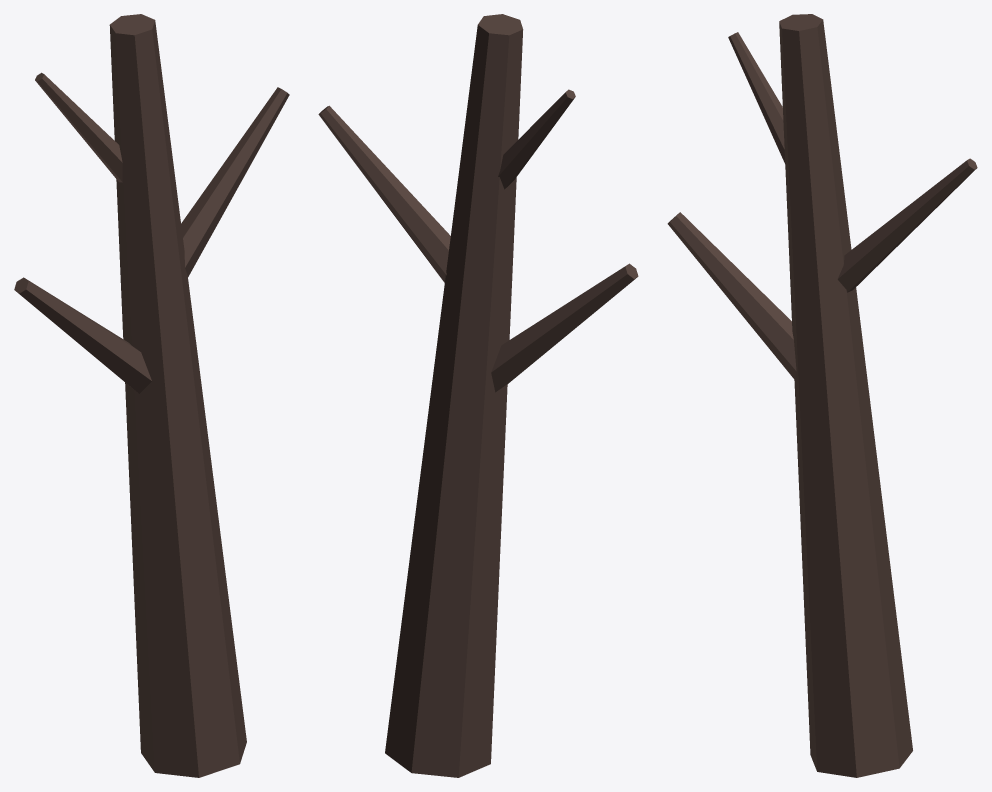
File: EXT_DeadTree_01.glb
3 renders of one model, left to right at view 1: azimuth 30°, elevation 25°; view 2: azimuth 150°, elevation 25°; view 3: azimuth 330°, elevation 25°, orthographic. The views are drawn at different scales.
Visible parts, largest first — view 1: EXT_DeadTree_01; view 2: EXT_DeadTree_01; view 3: EXT_DeadTree_01.
Part boxes in pixels (box(x1,y1,x2,y2)): EXT_DeadTree_01: box(14, 14, 289, 777); EXT_DeadTree_01: box(318, 14, 638, 777); EXT_DeadTree_01: box(667, 14, 977, 777).
Size of the model in its own units: 2.61 by 6.35 by 0.7984.
